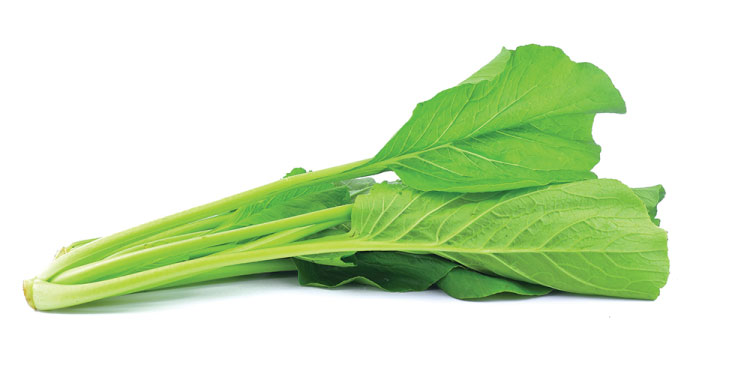Sawi: (26, 22, 696, 367)
